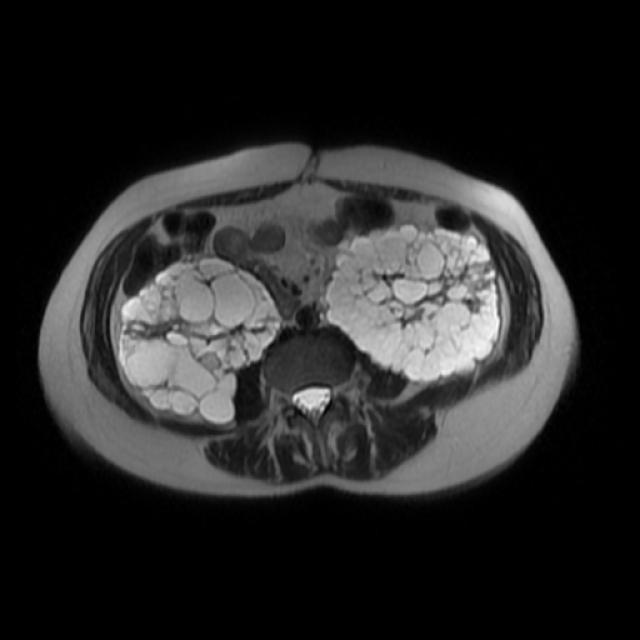sag: (116, 252, 282, 422)
sol: (319, 220, 503, 386)
